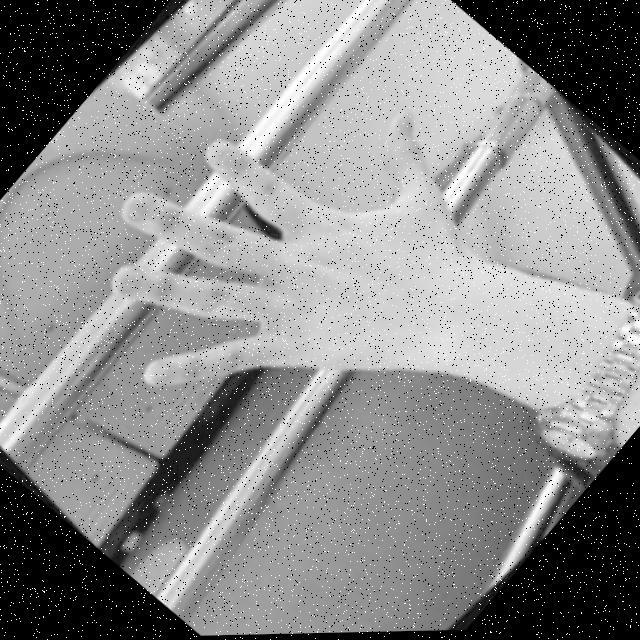no-gloves: (42, 2, 537, 512)
